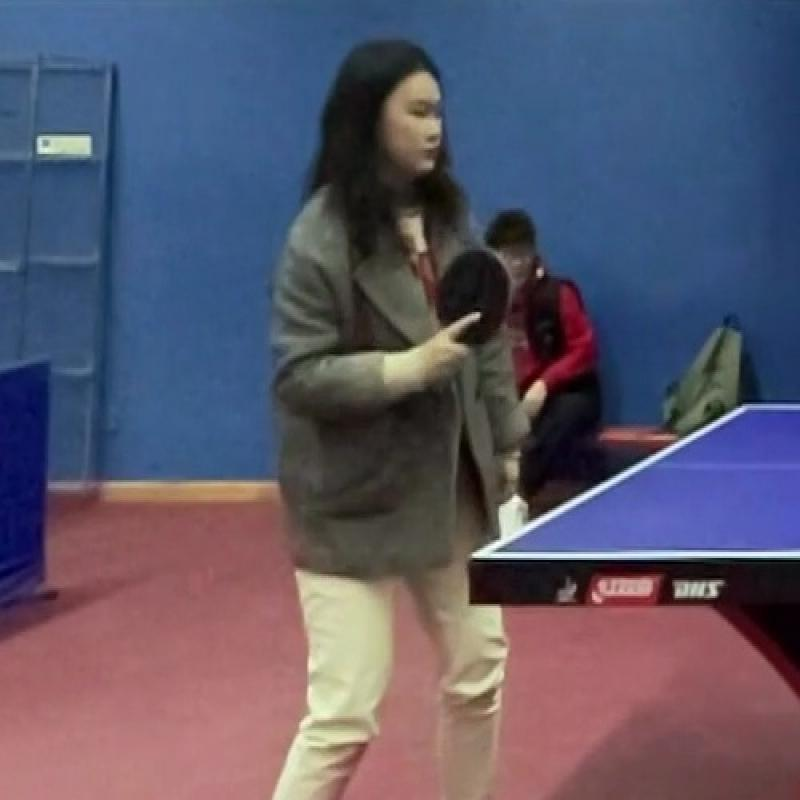bats: (426, 237, 522, 360)
